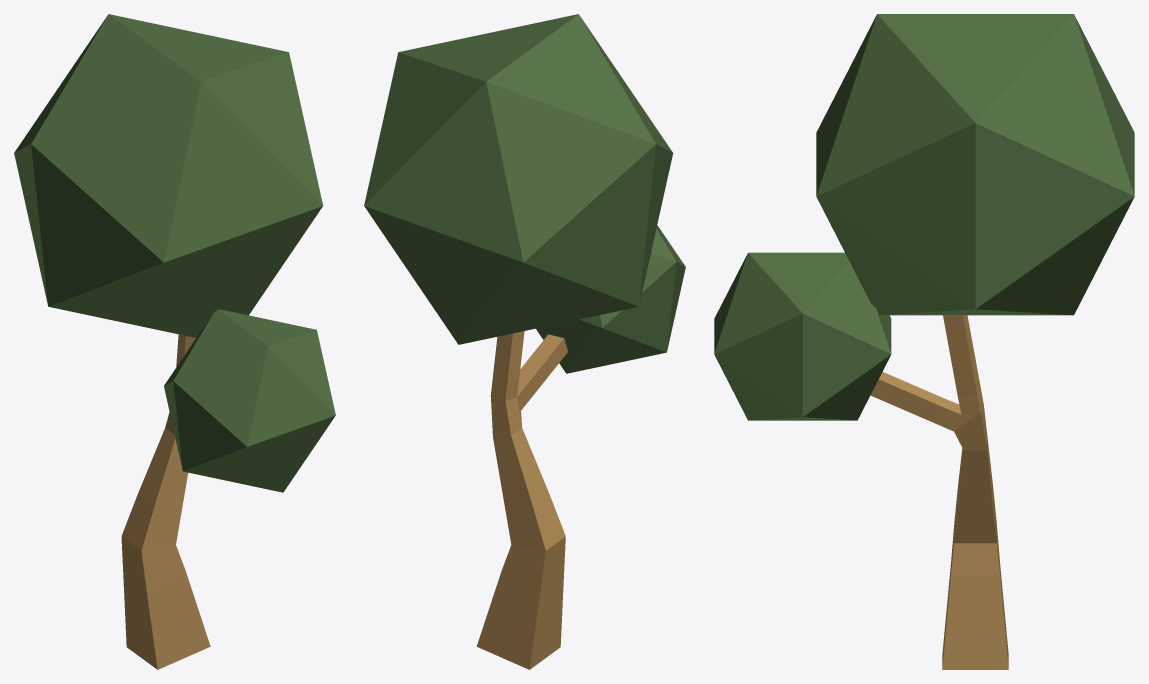
File: tree_round_bonus_146.fbx
3 renders of one model, left to right at view 1: azimuth 30°, elevation 25°; view 2: azimuth 150°, elevation 25°; view 3: azimuth 270°, elevation 25°, orthographic. The views are drawn at different scales.
Parts seen in each view (by area): view 1: Icosphere.003, Icosphere.001, Cube.001; view 2: Icosphere.003, Cube.001, Icosphere.001; view 3: Icosphere.003, Icosphere.001, Cube.001.
Boxes of the visible parts, <box> form: Icosphere.003: <box>14,14,323,337</box>; Icosphere.001: <box>164,309,335,492</box>; Cube.001: <box>121,334,210,669</box>; Icosphere.003: <box>364,14,673,344</box>; Cube.001: <box>476,331,567,669</box>; Icosphere.001: <box>536,225,685,373</box>; Icosphere.003: <box>816,14,1134,315</box>; Icosphere.001: <box>714,252,891,420</box>; Cube.001: <box>870,315,1008,669</box>.
Bounding box in the file's own units: 180 × 381 × 225.
